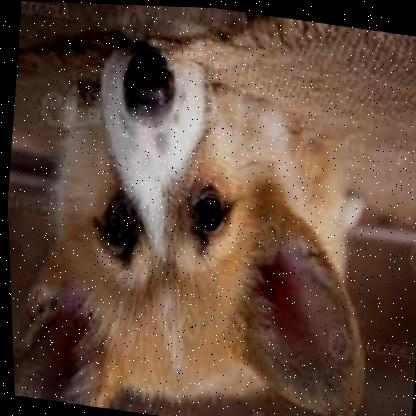dog: (1, 20, 400, 416)
